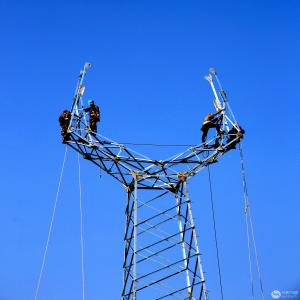blue: (89, 100, 96, 108)
yellow: (209, 114, 215, 120), (234, 124, 239, 130)
